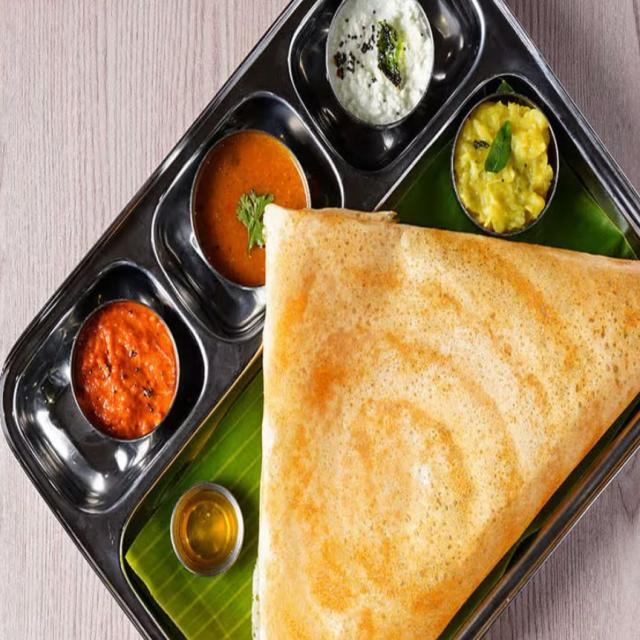CURRY: (458, 100, 549, 231)
DOSA: (256, 221, 636, 633)
RED CHUTNEY: (81, 311, 174, 428)
SAMBAR: (200, 136, 306, 285)
WHITE CHUTNEY: (333, 0, 424, 120)
